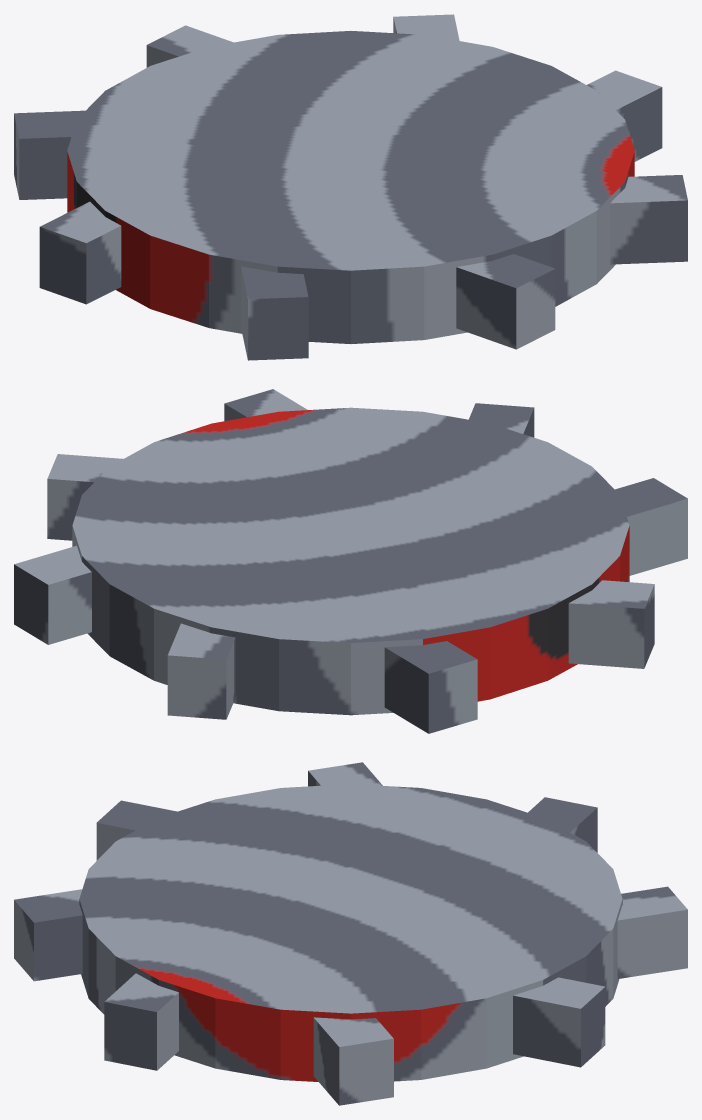
Rendered from Saw_Blade.obj.
3 renders of one model, top to bottom at view 1: azimuth 30°, elevation 25°; view 2: azimuth 150°, elevation 25°; view 3: azimuth 270°, elevation 25°, orthographic. The views are drawn at different scales.
Parts seen in each view (by area): view 1: Saw_Blade; view 2: Saw_Blade; view 3: Saw_Blade.
Part boxes in pixels (box(x1,y1,x2,y2)): Saw_Blade: box(14, 14, 687, 360); Saw_Blade: box(14, 389, 687, 733); Saw_Blade: box(14, 762, 687, 1105).
Bounding box in the file's own units: 1.04 × 0.12 × 1.04.
Materials: 1 (1 with a texture image).
